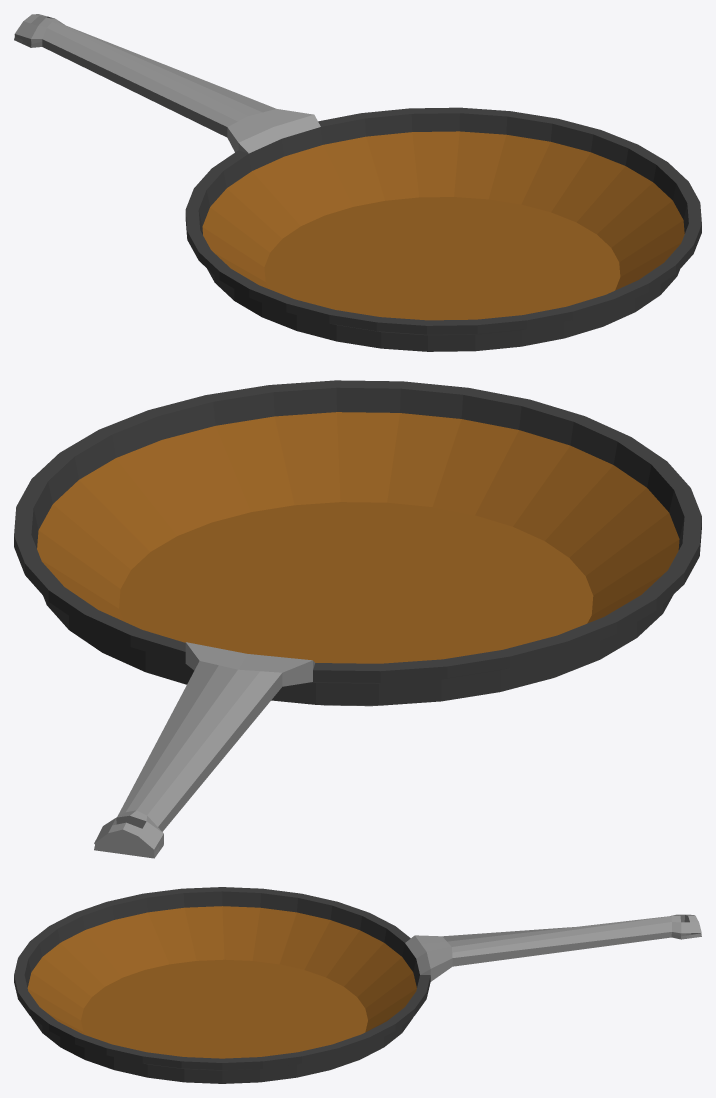
File: pan.fbx
3 views of the same model, one above another, from view 1: azimuth 30°, elevation 25°; view 2: azimuth 150°, elevation 25°; view 3: azimuth 270°, elevation 25° (orthographic). The views are drawn at different scales.
Parts seen in each view (by area): view 1: pan; view 2: pan; view 3: pan.
Boxes of the visible parts, x1=… form: pan: x1=14, y1=14, x2=701, y2=351; pan: x1=14, y1=380, x2=701, y2=858; pan: x1=14, y1=887, x2=701, y2=1083.
Bounding box in the file's own units: 16.43 × 2.72 × 27.13.
